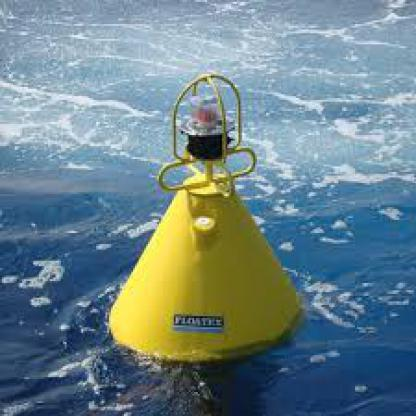buoy: (105, 53, 305, 374)
